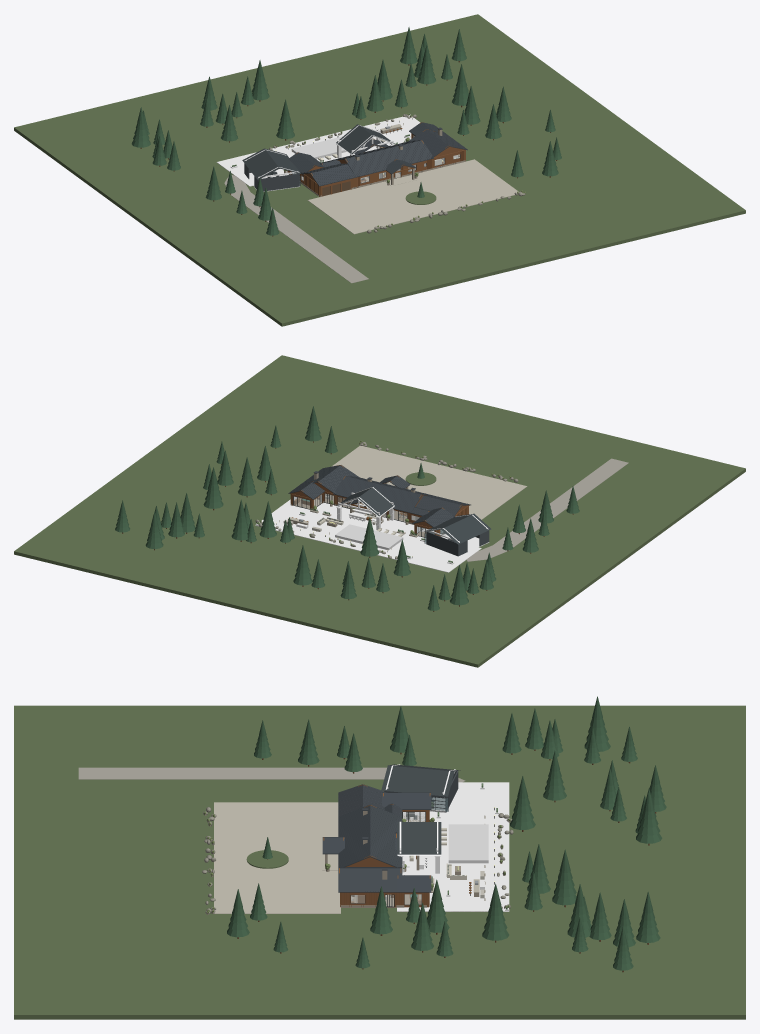
The model's file is DreamHouse-V1.2.glb.
3 renders of one model, top to bottom at view 1: azimuth 30°, elevation 25°; view 2: azimuth 150°, elevation 25°; view 3: azimuth 270°, elevation 25°, orthographic. The views are drawn at different scales.
Visible parts, largest first — view 1: Ground, Arrival court, Roof main_0, V12 | left side wraparound driveway 00, Roof garage_0, Roof suite_0, V12 | courtyard continuous edge, V12 | angled shop charcoal roof slope -1, V12 | left side wraparound driveway 01, V12 | hidden pool terrain boolean cutter, V12 | monumental graphite gable roof -1, V12 | garage side patio no steps (+1 smaller); view 2: Ground, Arrival court, V12 | courtyard level slab at building, Roof main_0, V12 | garage side patio no steps, V12 | courtyard level surround east, V12 | angled shop charcoal roof slope -1, V12 | hidden pool terrain boolean cutter, V12 | left side wraparound driveway 00, V12 | courtyard continuous edge, Roof suite_0, Roof garage_0 (+1 smaller); view 3: Ground, Arrival court, Roof main_0, V12 | courtyard level surround east, V12 | angled shop charcoal roof slope 1, V12 | hidden pool terrain boolean cutter, V12 | left side wraparound driveway 00, V12 | courtyard continuous edge, Roof suite_0, V12 | garage side patio no steps, V12 | courtyard level slab at building, V12 | monumental graphite gable roof 1 (+8 smaller).
Boxes of the visible parts, left/top/right/bottom form: Ground: left=14, top=14, right=745, bottom=326; Arrival court: left=307, top=159, right=518, bottom=234; Roof main_0: left=335, top=140, right=433, bottom=177; V12 | left side wraparound driveway 00: left=308, top=247, right=368, bottom=283; Roof garage_0: left=301, top=163, right=356, bottom=186; Roof suite_0: left=408, top=129, right=467, bottom=158; V12 | courtyard continuous edge: left=255, top=116, right=415, bottom=152; V12 | angled shop charcoal roof slope -1: left=242, top=148, right=279, bottom=179; V12 | left side wraparound driveway 01: left=278, top=223, right=327, bottom=252; V12 | hidden pool terrain boolean cutter: left=291, top=136, right=346, bottom=159; V12 | monumental graphite gable roof -1: left=336, top=124, right=373, bottom=154; V12 | garage side patio no steps: left=216, top=152, right=279, bottom=186; Ground: left=14, top=355, right=745, bottom=667; Arrival court: left=332, top=445, right=527, bottom=519; V12 | courtyard level slab at building: left=279, top=497, right=447, bottom=544; Roof main_0: left=333, top=476, right=430, bottom=512; V12 | garage side patio no steps: left=410, top=545, right=481, bottom=572; V12 | courtyard level surround east: left=262, top=508, right=347, bottom=537; V12 | angled shop charcoal roof slope -1: left=441, top=514, right=491, bottom=544; V12 | hidden pool terrain boolean cutter: left=335, top=524, right=403, bottom=550; V12 | left side wraparound driveway 00: left=568, top=458, right=628, bottom=494; V12 | courtyard continuous edge: left=255, top=520, right=415, bottom=563; Roof suite_0: left=302, top=465, right=358, bottom=494; Roof garage_0: left=415, top=495, right=470, bottom=517; Ground: left=14, top=705, right=745, bottom=1019; Arrival court: left=214, top=802, right=340, bottom=913; Roof main_0: left=338, top=804, right=402, bottom=867; V12 | courtyard level surround east: left=446, top=864, right=491, bottom=911; V12 | angled shop charcoal roof slope 1: left=381, top=765, right=454, bottom=796; V12 | hidden pool terrain boolean cutter: left=448, top=824, right=488, bottom=863; V12 | left side wraparound driveway 00: left=78, top=767, right=198, bottom=779; V12 | courtyard continuous edge: left=491, top=808, right=509, bottom=911; Roof suite_0: left=338, top=867, right=402, bottom=892; V12 | garage side patio no steps: left=432, top=782, right=509, bottom=808; V12 | courtyard level slab at building: left=397, top=811, right=446, bottom=911; V12 | monumental graphite gable roof 1: left=397, top=822, right=441, bottom=854.
Bounding box in the file's own units: 150 × 14.98 × 150.
